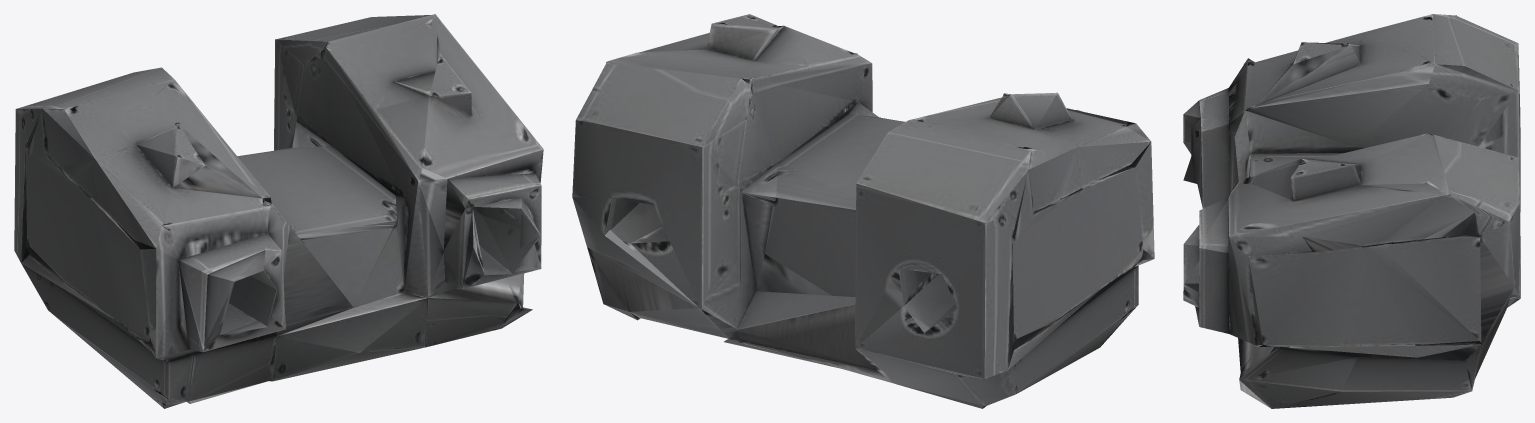
Rendered from shared_flak_tower_large_option__elevation_cradle_lod1.glb.
The picture shows the model from 3 angles, left to right: view 1: azimuth 30°, elevation 25°; view 2: azimuth 150°, elevation 25°; view 3: azimuth 270°, elevation 25°; orthographic projection. The views are drawn at different scales.
Parts seen in each view (by area): view 1: mesh_node; view 2: mesh_node; view 3: mesh_node.
Part boxes in pixels (left/top/right/bottom): mesh_node: left=14, top=14, right=543, bottom=408; mesh_node: left=572, top=14, right=1154, bottom=408; mesh_node: left=1183, top=14, right=1520, bottom=408.
Size of the model in its own units: 3.41 by 2.07 by 2.67.
Materials: 1 (1 with a texture image).
